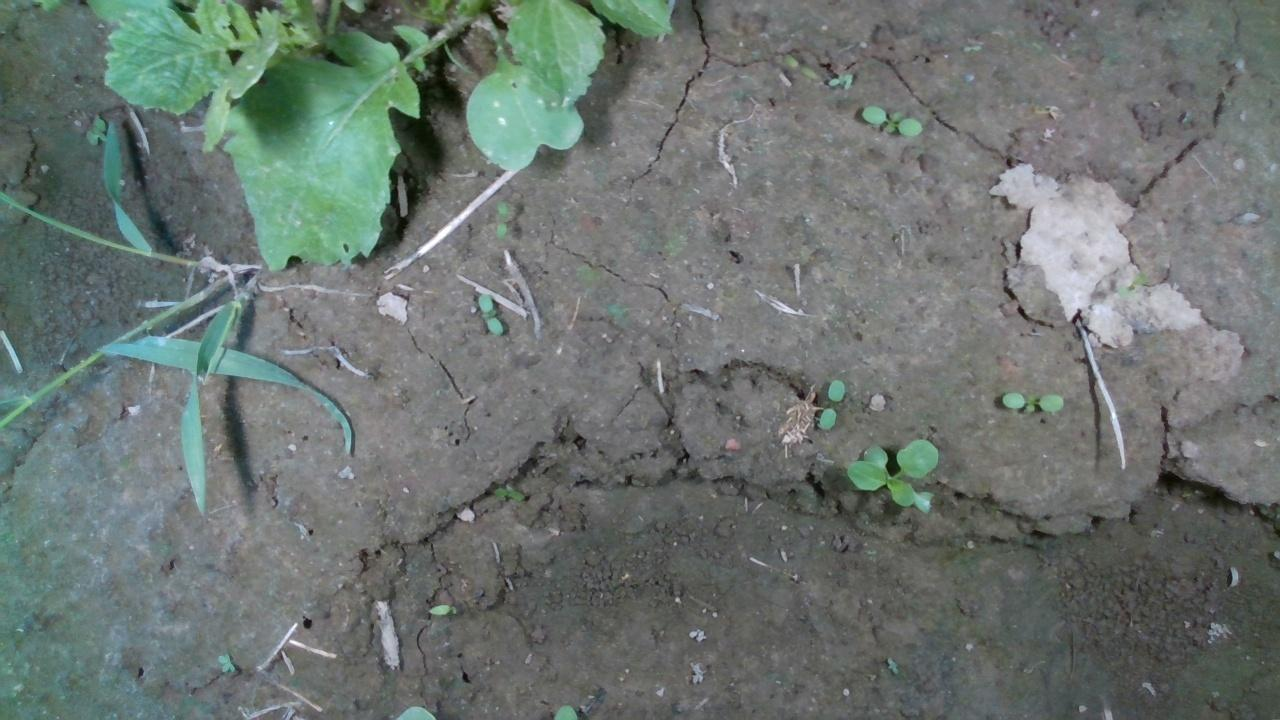weed: (817, 378, 844, 431)
